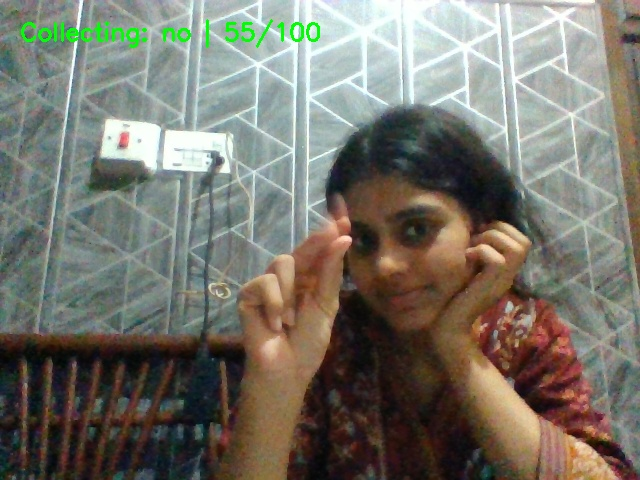no: (213, 198, 378, 419)
